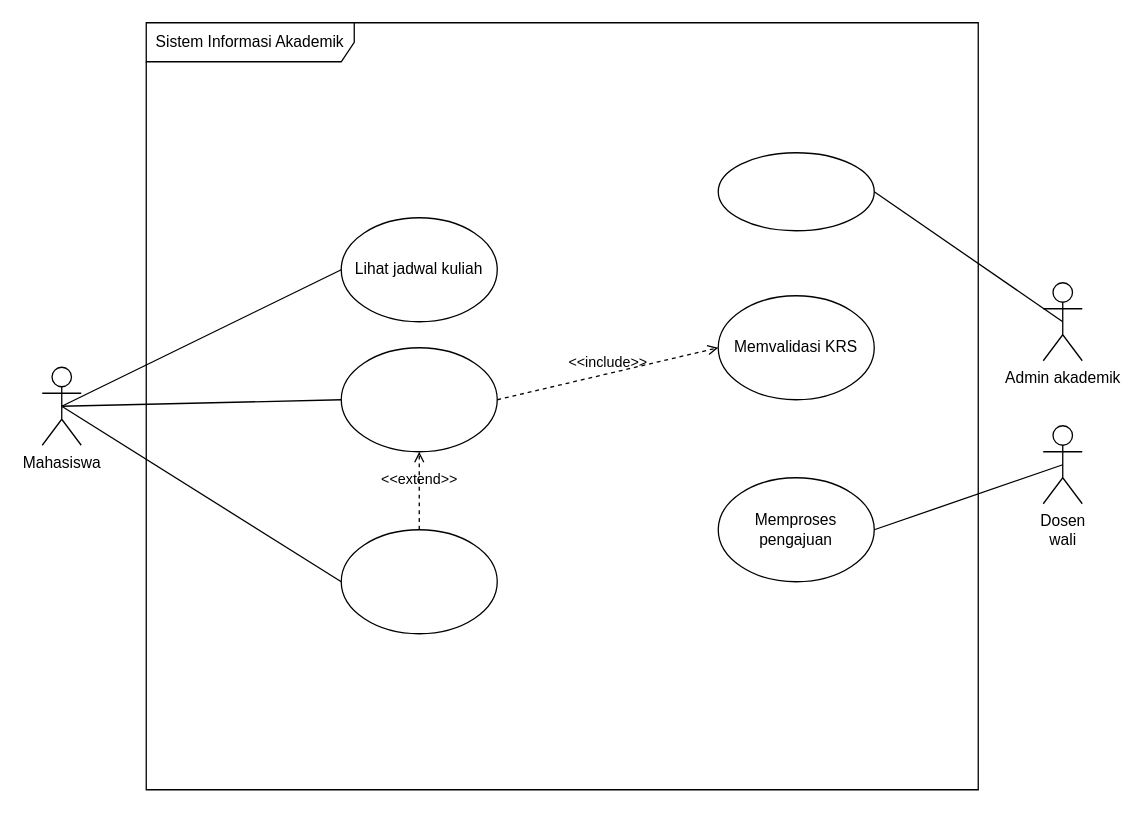
This 1143x813 diagram has some shape labels left out. Here are the shapes that lost their labels. From the top down, the centre of each, then its label:
At (795,191): "Kelola jadwal kuliah".
At (418,399): "Mengajukan KRS".
At (418,581): "Mengunduh bukti pengajuan".
